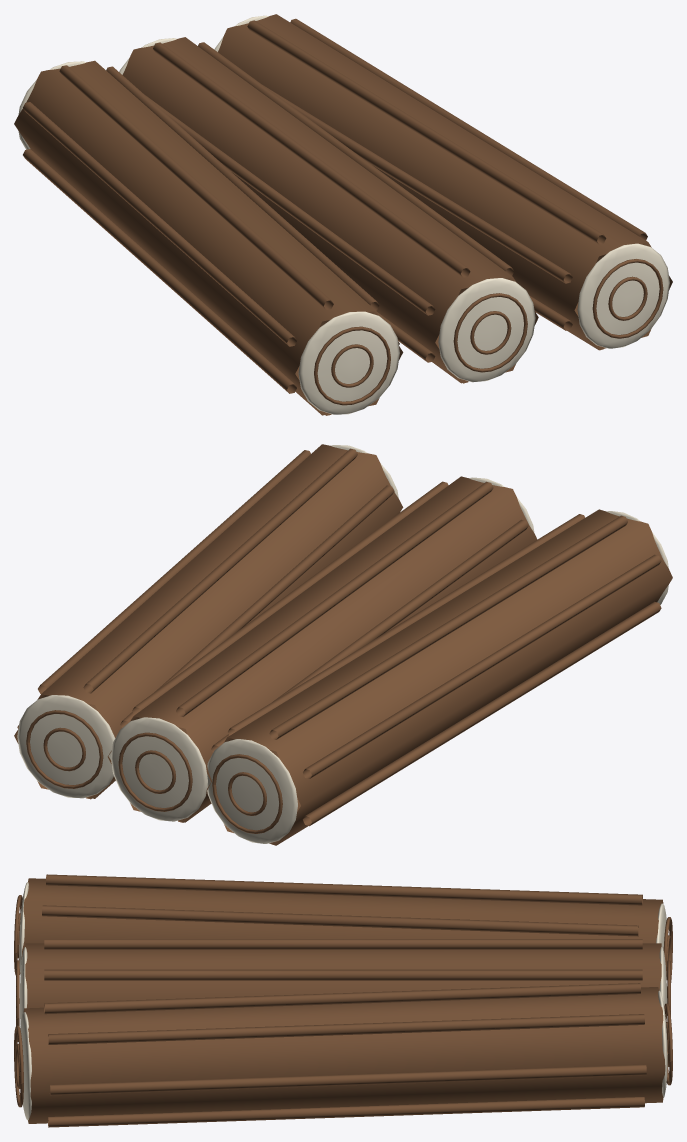
The model's file is wood.glb.
The picture shows the model from 3 angles, top to bottom: view 1: azimuth 30°, elevation 25°; view 2: azimuth 150°, elevation 25°; view 3: azimuth 270°, elevation 25°; orthographic projection. The views are drawn at different scales.
Parts seen in each view (by area): view 1: rough bark, cut end grain; view 2: rough bark, cut end grain; view 3: rough bark, cut end grain.
Part boxes in pixels (bbox=[...]): rough bark: bbox=[14, 14, 672, 415]; cut end grain: bbox=[18, 15, 669, 414]; rough bark: bbox=[14, 444, 672, 845]; cut end grain: bbox=[17, 445, 668, 843]; rough bark: bbox=[14, 874, 672, 1127]; cut end grain: bbox=[19, 882, 667, 1120].
Size of the model in its own units: 0.699 by 0.2008 by 1.08.
